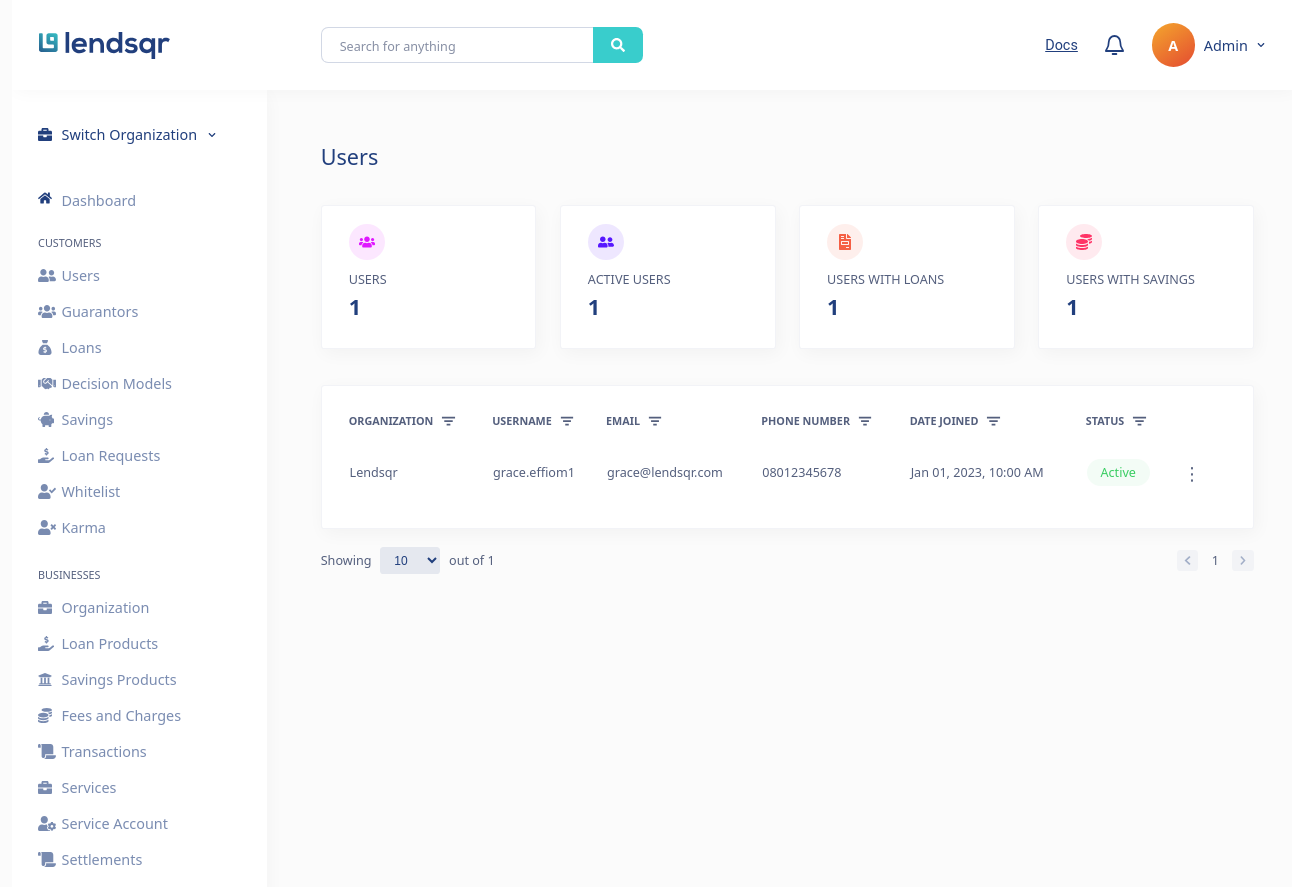
Scenario: users page states › shows an empty state after a search has no matches
Expected: the text "grace.effiom1" is shown, [492,444,606,501]
Type "not-a-real-user" into the search field named "search users" at point(457, 45), box [321,27,593,63]
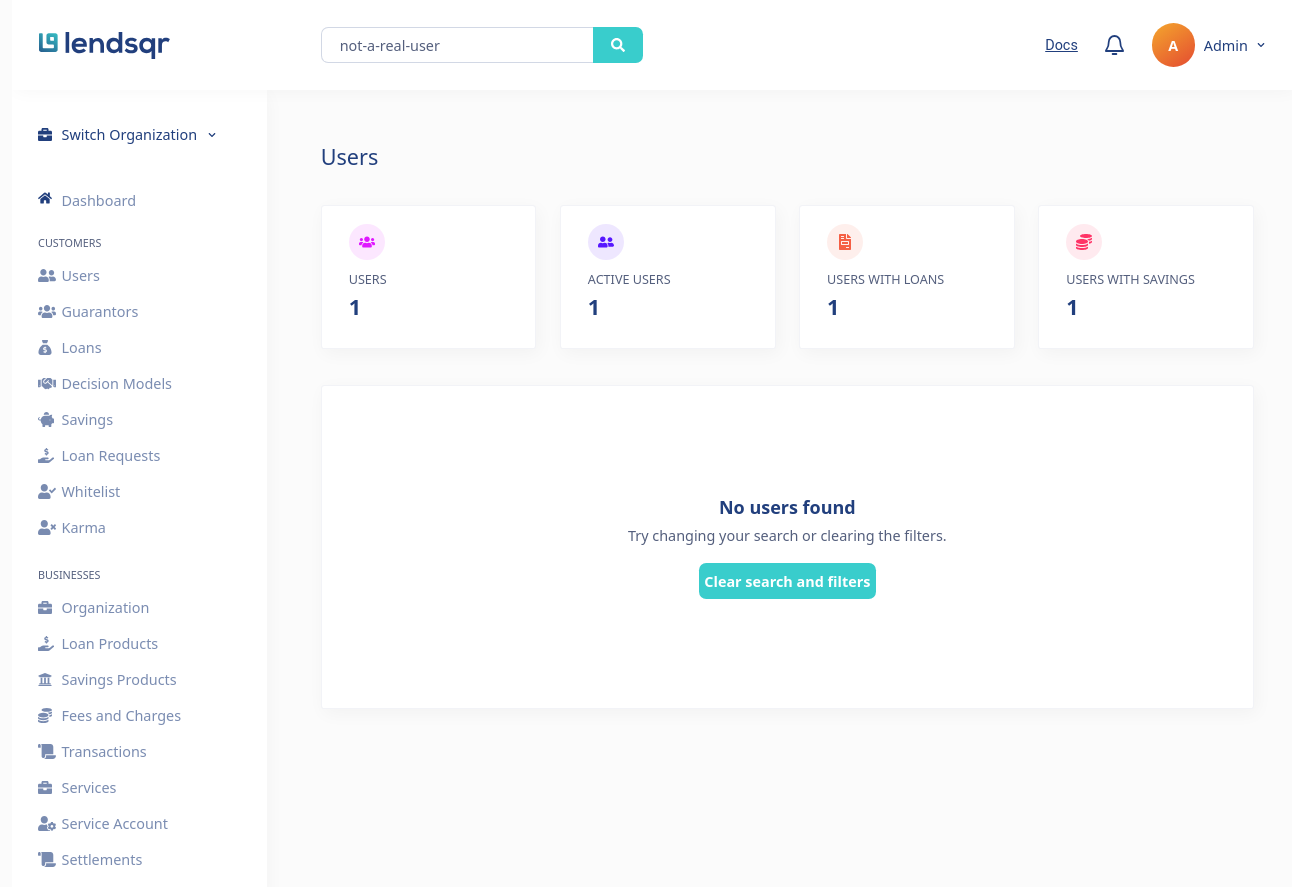
Result: the heading "No users found" is shown at [719,495,856,519]
